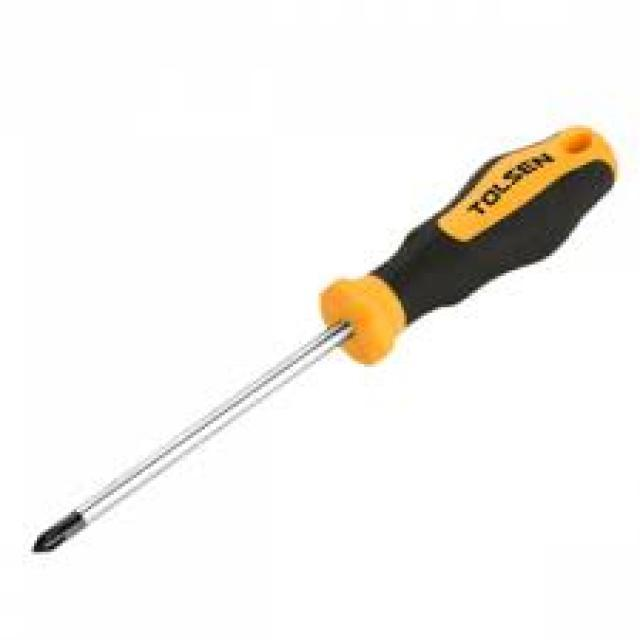screwdriver: (29, 120, 620, 560)
